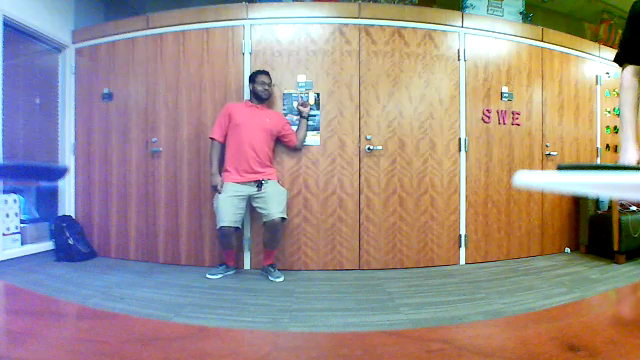up: (294, 91, 314, 122)
